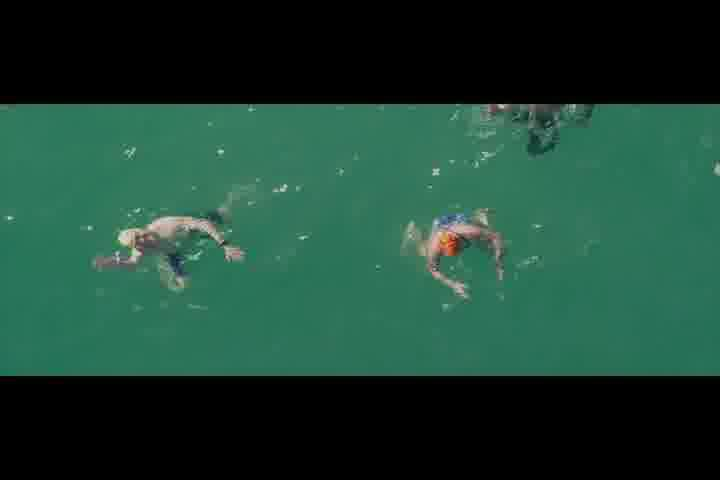human: (92, 212, 251, 293), (403, 199, 516, 308)
